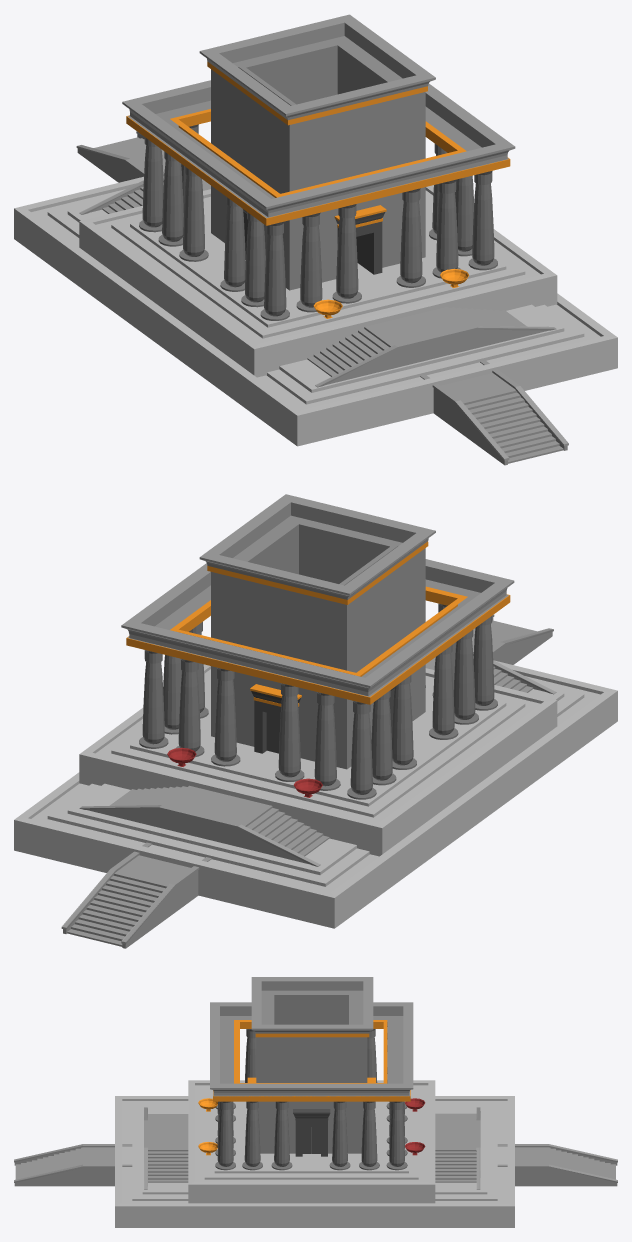
Rendered from SM_altar_egypt_02.fbx.
The picture shows the model from 3 angles, top to bottom: view 1: azimuth 30°, elevation 25°; view 2: azimuth 150°, elevation 25°; view 3: azimuth 270°, elevation 25°; orthographic projection. The views are drawn at different scales.
Visible parts, largest first — view 1: Box120; view 2: Box120; view 3: Box120.
Boxes of the visible parts, x1,y1,x2,y2 form: Box120: (14,14,617,465); Box120: (14,494,617,948); Box120: (14,977,617,1227).
Size of the model in its own units: 710 by 1642 by 510.
